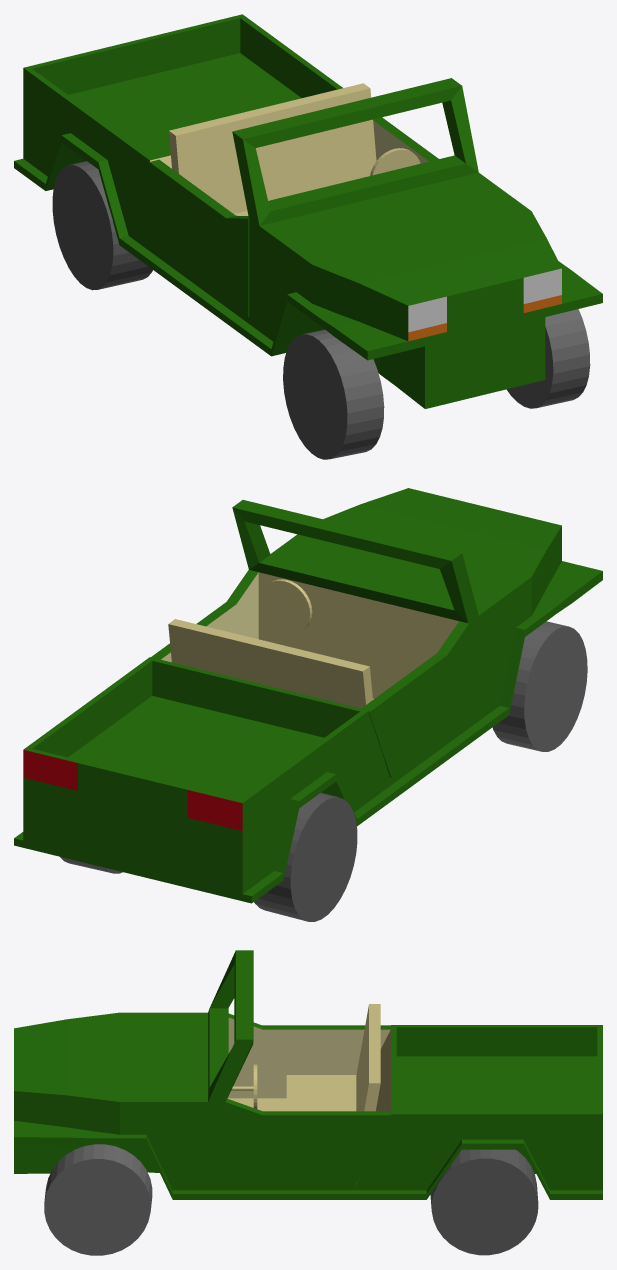
File: tutjeep.fbx
3 views of the same model, one above another, from view 1: azimuth 30°, elevation 25°; view 2: azimuth 150°, elevation 25°; view 3: azimuth 270°, elevation 25° (orthographic). The views are drawn at different scales.
Parts seen in each view (by area): view 1: Cube, Cube.004, Cube.001, Cube.003, Cube.002; view 2: Cube, Cube.001, Cube.004, Cube.002; view 3: Cube, Cube.002, Cube.003, Cube.001.
Part boxes in pixels (x1=…): Cube: x1=14, y1=14, x2=602, y2=408; Cube.004: x1=283, y1=329, x2=384, y2=459; Cube.001: x1=148, y1=159, x2=249, y2=316; Cube.003: x1=506, y1=309, x2=590, y2=408; Cube.002: x1=373, y1=117, x2=438, y2=163; Cube: x1=14, y1=488, x2=602, y2=921; Cube.001: x1=361, y1=621, x2=469, y2=778; Cube.004: x1=492, y1=621, x2=587, y2=751; Cube.002: x1=151, y1=570, x2=258, y2=662; Cube: x1=14, y1=950, x2=602, y2=1255; Cube.002: x1=225, y1=1098, x2=392, y2=1184; Cube.003: x1=44, y1=1144, x2=152, y2=1255; Cube.001: x1=228, y1=1013, x2=390, y2=1098.
Size of the model in its own units: 112 by 110 by 278.
